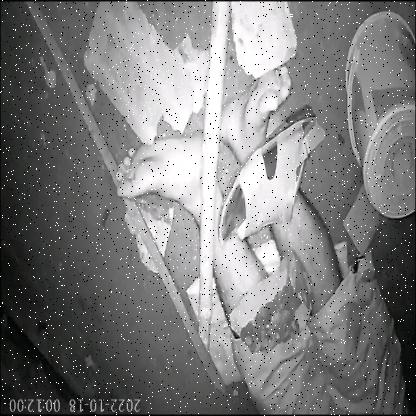leg: (106, 124, 222, 240), (202, 54, 287, 152)
